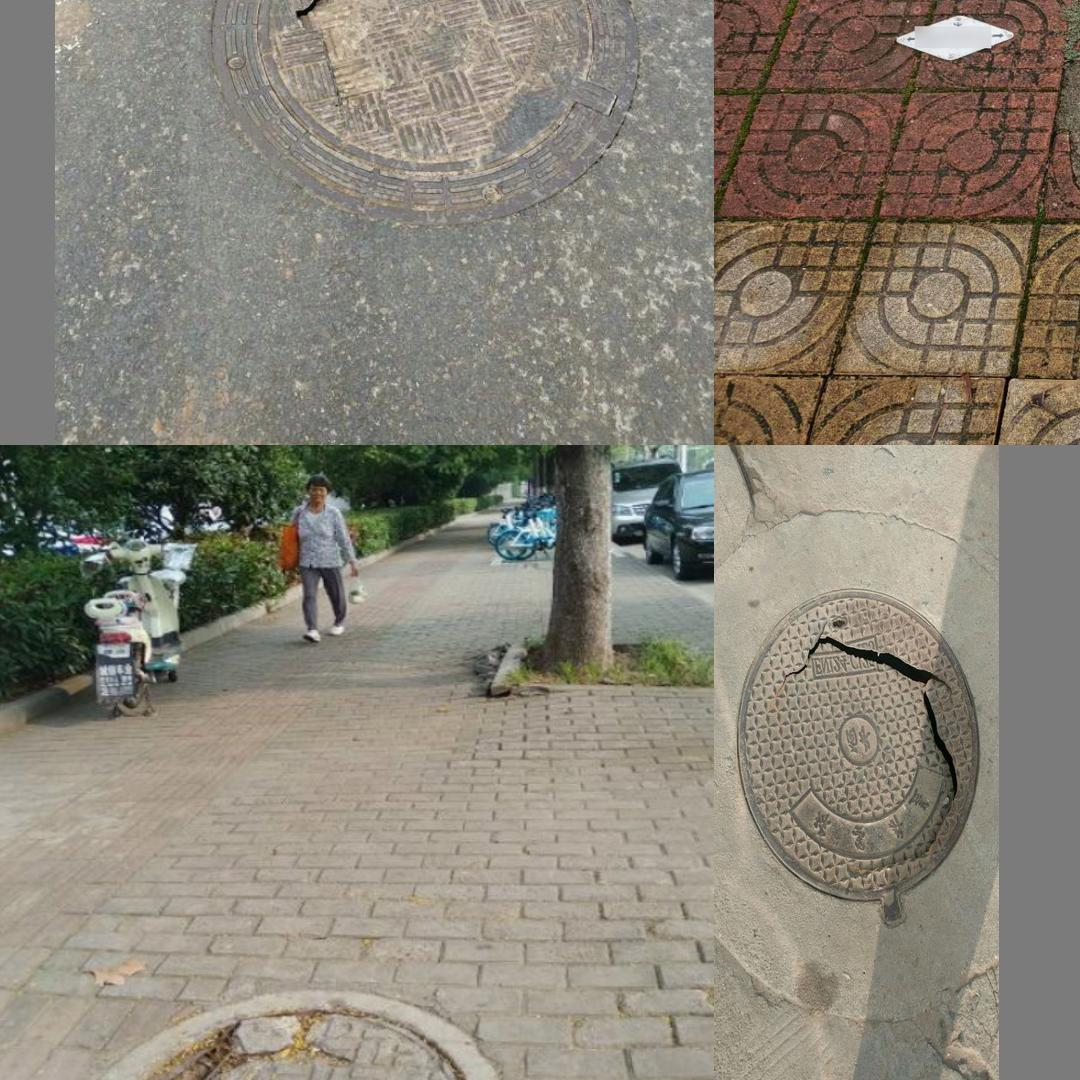broke: (717, 540, 991, 983), (217, 0, 636, 211), (60, 988, 512, 1080)
